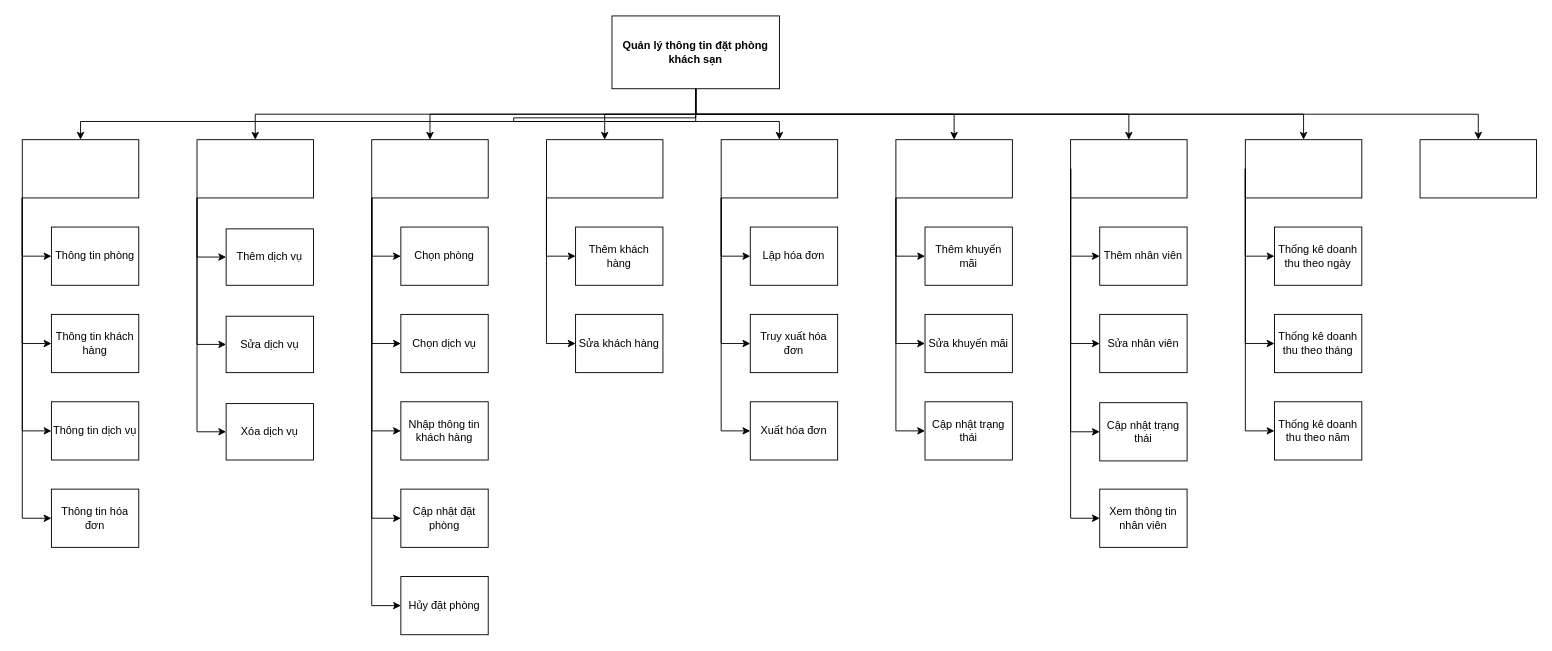
Some shapes in this 1552 by 651 pixel diagram are drawn without their labels. The centre of each missing label's shape, as x and y in pixels:
Quản lý dịch vụ: point 254,168
Quản lý hóa đơn: point 779,168
Quản lý khuyến mãi: point 953,168
Quản lý khách hàng: point 604,168
Quản lý nhân viên: point 1128,168
Quản lý đặt phòng: point 429,168
Thống kê: point 1303,168
Thống kê giao ca: point 1478,168
Tra cứu: point 80,168
